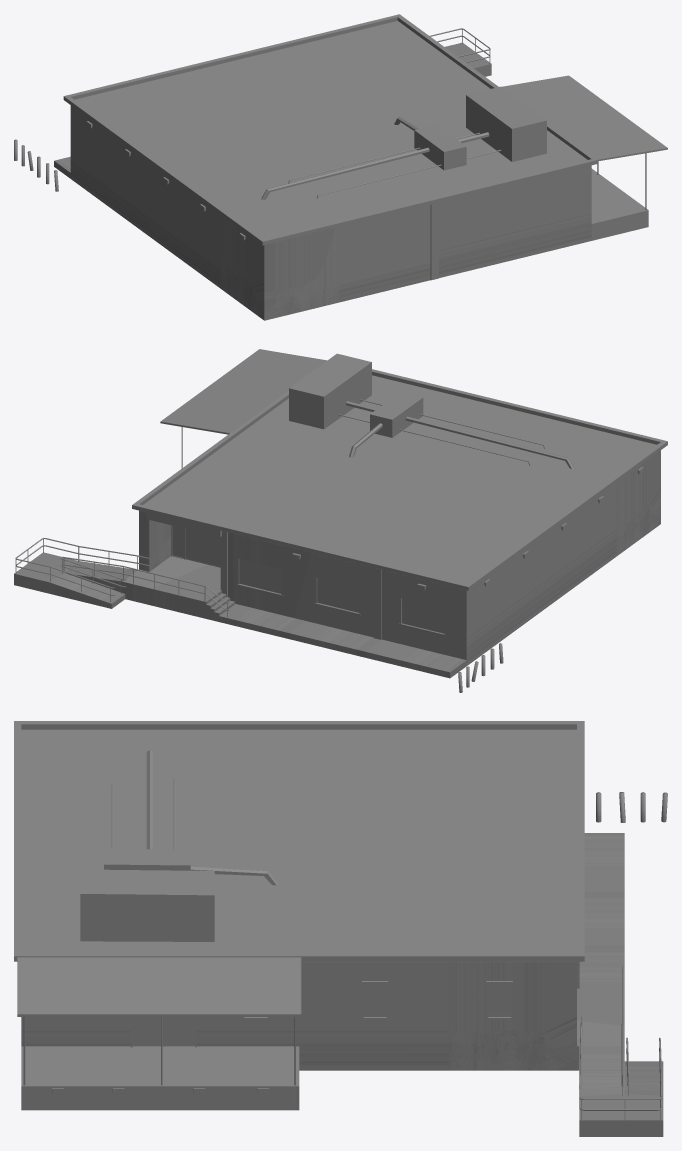
The picture shows the model from 3 angles, top to bottom: view 1: azimuth 30°, elevation 25°; view 2: azimuth 150°, elevation 25°; view 3: azimuth 270°, elevation 25°; orthographic projection. The views are drawn at different scales.
Visible parts, largest first — view 1: Plane; view 2: Plane; view 3: Plane.
Part boxes in pixels (left/top/right/bottom): Plane: left=14, top=14, right=667, bottom=320; Plane: left=14, top=349, right=667, bottom=692; Plane: left=14, top=721, right=667, bottom=1136.
Size of the model in its own units: 36.01 by 8.53 by 31.68.
